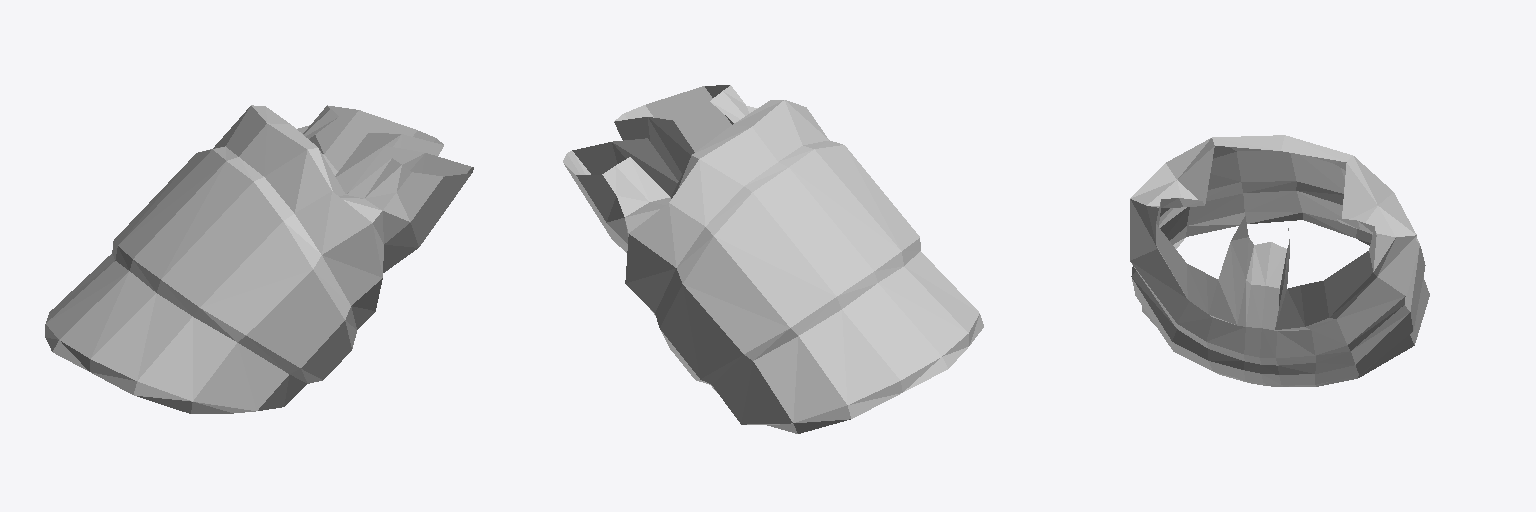
File: RThumb2.obj
The picture shows the model from 3 angles: view 1: azimuth 30°, elevation 25°; view 2: azimuth 150°, elevation 25°; view 3: azimuth 270°, elevation 25°; orthographic projection.
Parts seen in each view (by area): view 1: RThumb2_RThumb2; view 2: RThumb2_RThumb2; view 3: RThumb2_RThumb2.
Boxes of the visible parts, <box> form: RThumb2_RThumb2: <box>45,105,473,413</box>; RThumb2_RThumb2: <box>563,85,983,433</box>; RThumb2_RThumb2: <box>1130,135,1429,386</box>.
Size of the model in its own units: 0.0369 by 0.0234 by 0.0249.